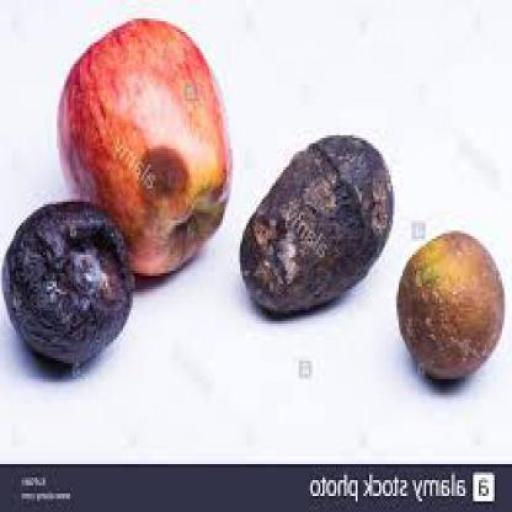biodegradable: (60, 16, 233, 273), (242, 133, 399, 313), (4, 196, 135, 362), (400, 228, 506, 376)
